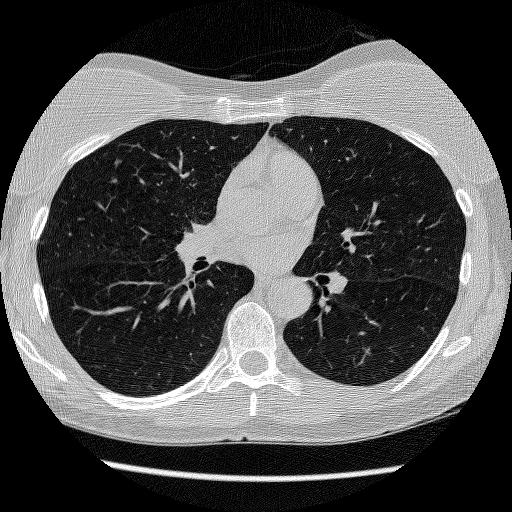nodule: (112, 157, 124, 169)
